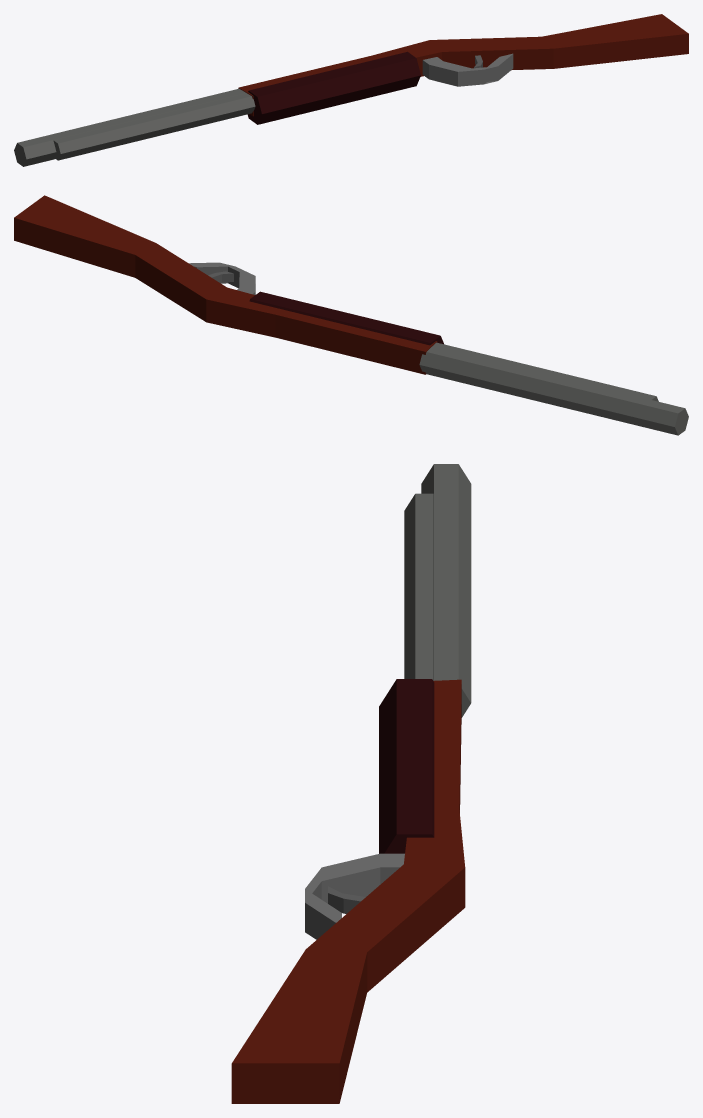
The model's file is shotgun.fbx.
3 renders of one model, top to bottom at view 1: azimuth 30°, elevation 25°; view 2: azimuth 150°, elevation 25°; view 3: azimuth 270°, elevation 25°, orthographic. The views are drawn at different scales.
Visible parts, largest first — view 1: Cylinder.002; view 2: Cylinder.002; view 3: Cylinder.002.
Part boxes in pixels (x1,y1,x2,y2): Cylinder.002: [14, 14, 688, 166]; Cylinder.002: [14, 195, 688, 435]; Cylinder.002: [231, 464, 471, 1103].
Bounding box in the file's own units: 1055 × 45.73 × 178.
